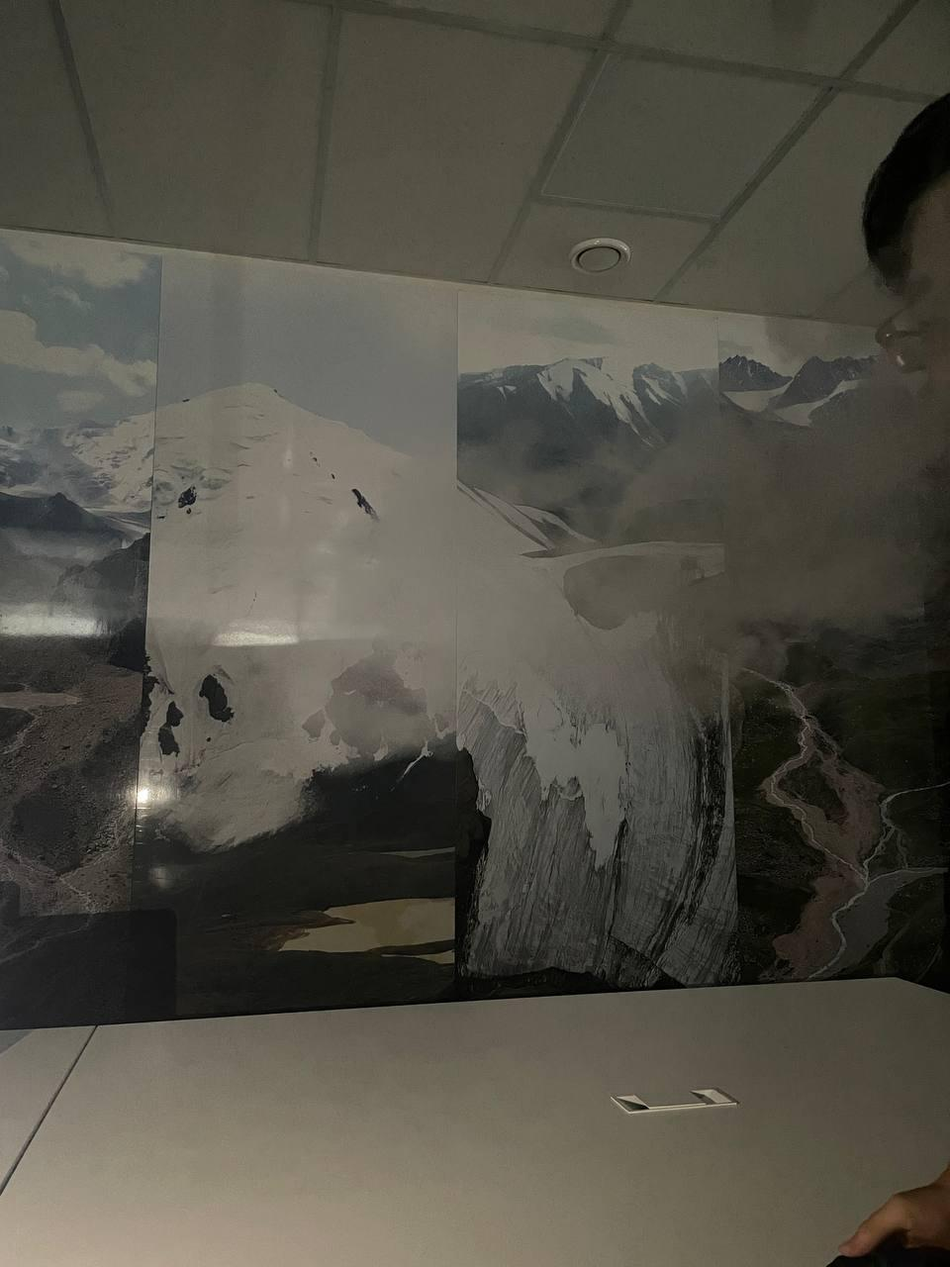smoke: (234, 357, 950, 750)
